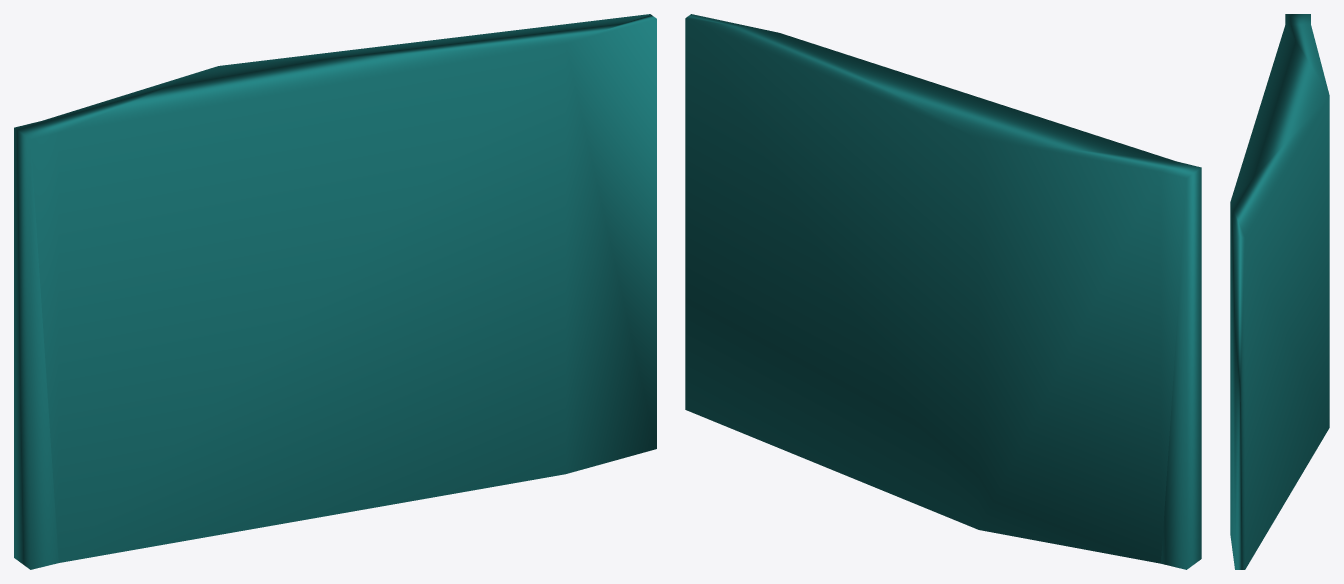
The model's file is finish_flag_collider.fbx.
3 renders of one model, left to right at view 1: azimuth 30°, elevation 25°; view 2: azimuth 150°, elevation 25°; view 3: azimuth 270°, elevation 25°, orthographic. The views are drawn at different scales.
Parts seen in each view (by area): view 1: finish_flag_collider; view 2: finish_flag_collider; view 3: finish_flag_collider.
Boxes of the visible parts, x1,y1,x2,y2 form: finish_flag_collider: (14, 14, 656, 569); finish_flag_collider: (685, 14, 1201, 569); finish_flag_collider: (1230, 14, 1329, 569).
Bounding box in the file's own units: 42.37 × 29.33 × 7.95.
